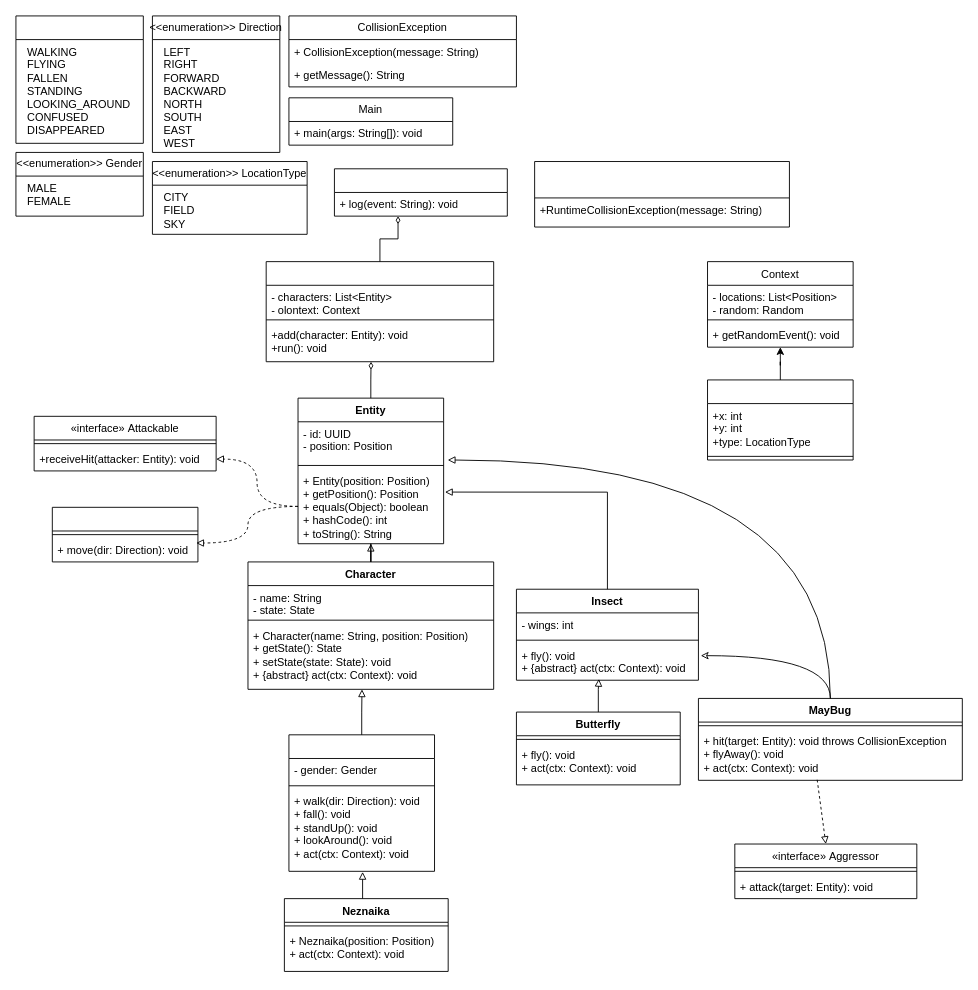
Image size: 978x990. Some labels were removed from this diagram. The box of each missing label's shape, as (x1, y1, x2, y2) in pixels:
<<enumeration>> State: (15, 15, 143, 143)
<<record>> Position: (707, 379, 853, 460)
<<unchecked>> RuntimeCollisionException: (534, 161, 789, 227)
Human: (288, 734, 435, 871)
Logger: (334, 168, 507, 216)
World: (265, 261, 494, 362)
«interface» Movable: (51, 506, 198, 562)
